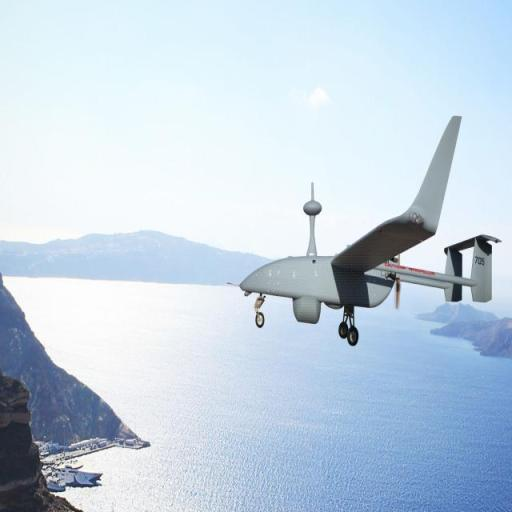uav: (238, 116, 502, 364)
